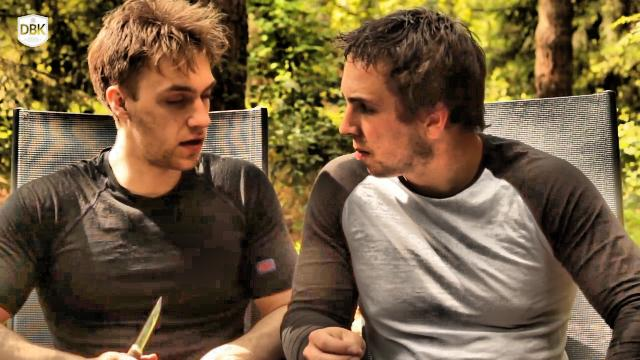knife: (105, 289, 171, 359)
